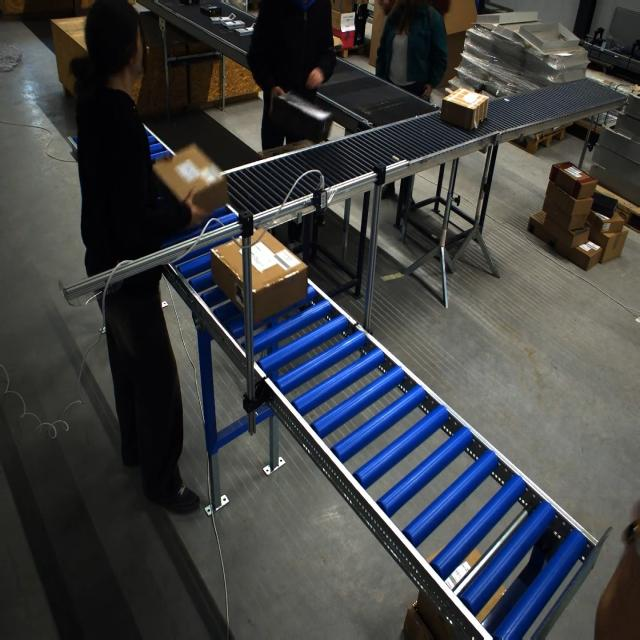box: (208, 229, 305, 324), (152, 142, 229, 218), (434, 80, 493, 137)
product: (199, 4, 222, 16), (223, 20, 246, 29), (233, 27, 255, 36), (212, 14, 236, 22)
